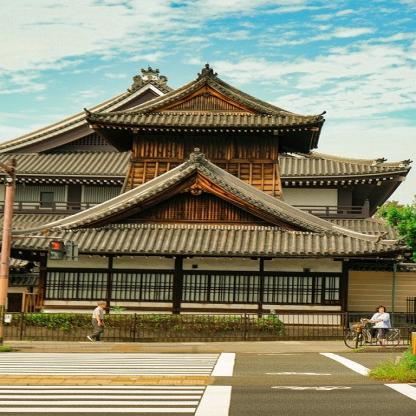Balcony: (290, 199, 370, 218), (0, 200, 104, 214)
Building Outline: (0, 64, 416, 329)
Dont: (0, 158, 348, 343)
Facade: (67, 118, 312, 327)
Floor: (0, 175, 348, 214)
Floor Slab: (0, 209, 370, 218), (0, 213, 366, 220), (0, 153, 313, 160), (59, 148, 264, 151)
Ground Floor: (0, 215, 416, 326)
Roof: (0, 64, 413, 217), (0, 148, 413, 257), (0, 254, 41, 287)
Top Floor: (2, 83, 309, 158)
Window: (182, 274, 340, 303), (45, 272, 173, 301), (41, 192, 54, 207)
object: (61, 102, 62, 103)
